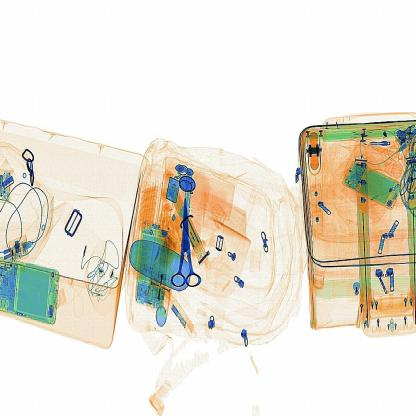gun: (167, 182, 209, 302)
